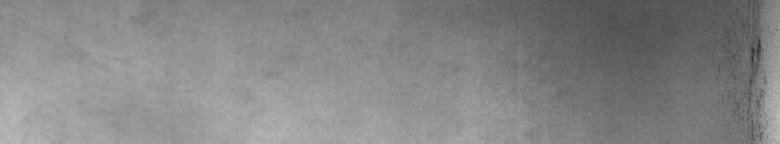ka: (718, 4, 776, 136)
